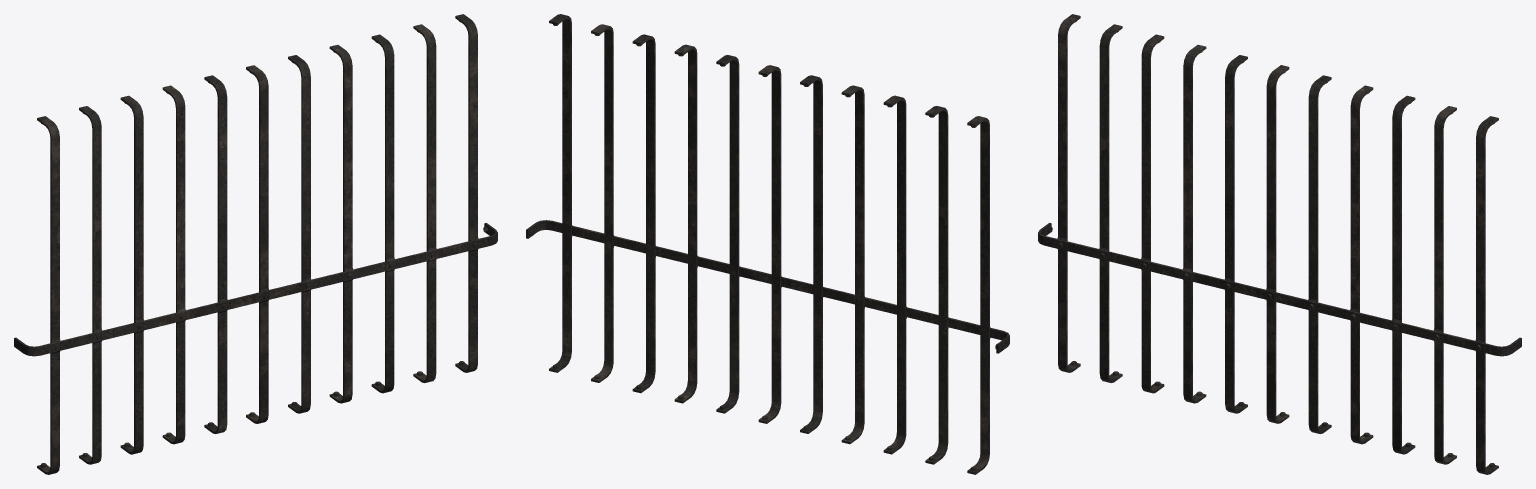
Rendered from window_metal_bars_double.glb.
The picture shows the model from 3 angles, left to right: view 1: azimuth 30°, elevation 25°; view 2: azimuth 150°, elevation 25°; view 3: azimuth 330°, elevation 25°; orthographic projection.
Parts seen in each view (by area): view 1: window_metal_bars_double; view 2: window_metal_bars_double; view 3: window_metal_bars_double.
Part boxes in pixels (left/top/right/bottom): window_metal_bars_double: left=14, top=14, right=497, bottom=474; window_metal_bars_double: left=526, top=14, right=1009, bottom=474; window_metal_bars_double: left=1038, top=14, right=1521, bottom=474.
Bounding box in the file's own units: 2.26 × 1.6 × 0.141.
1 material, 1 textured.
